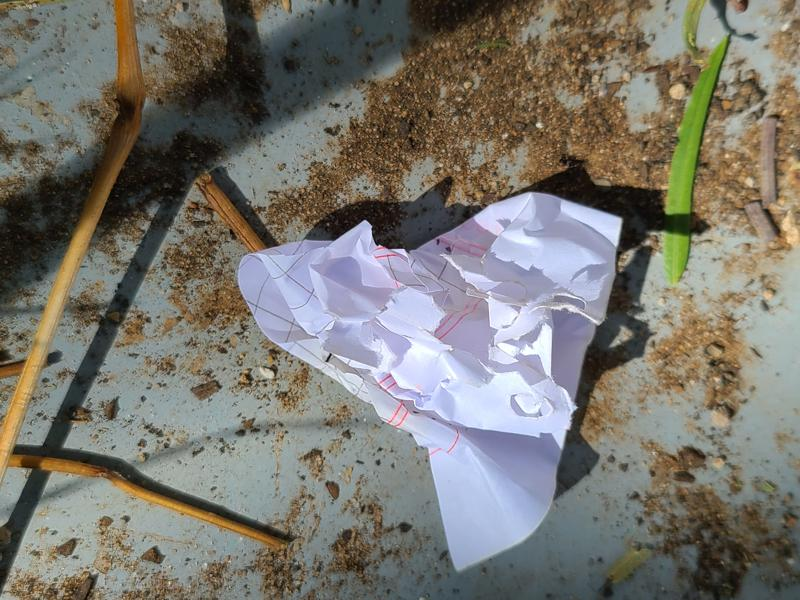papel: (235, 192, 630, 572)
